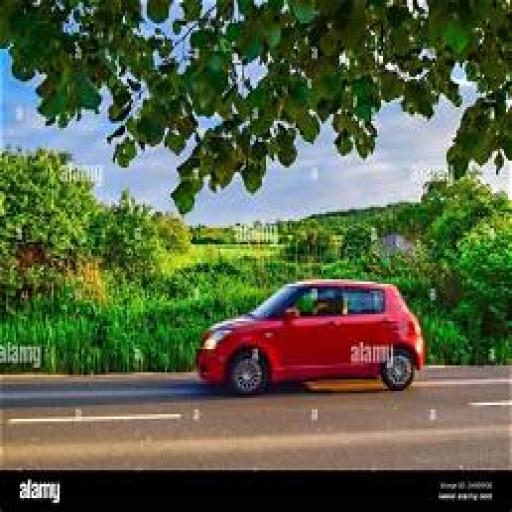car: (184, 268, 442, 404)
